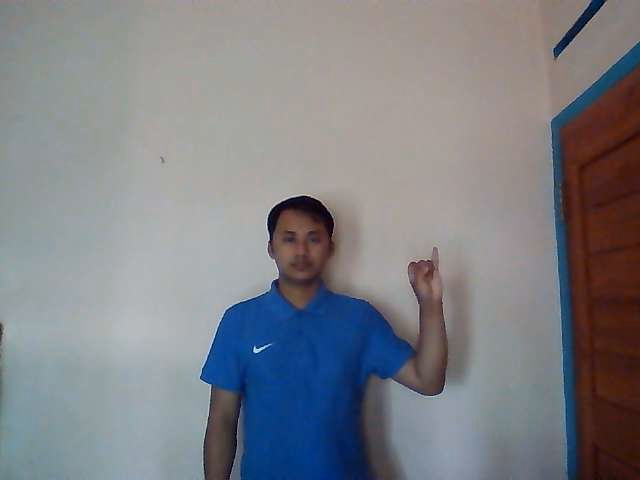I: (406, 246, 445, 302)
